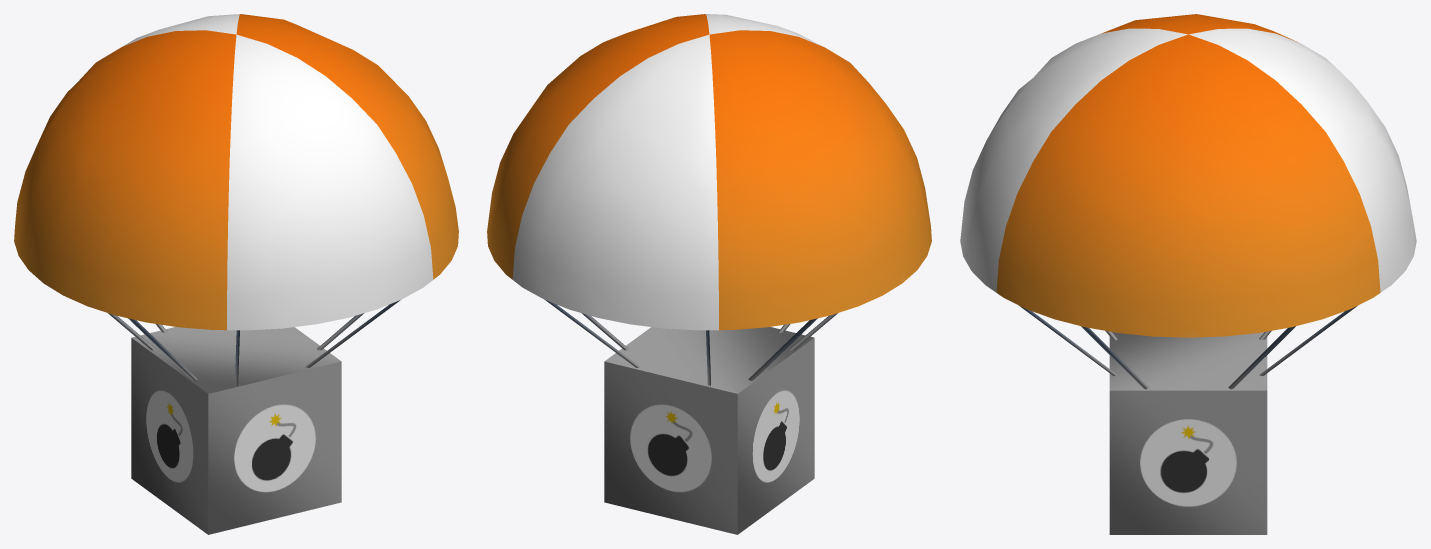
File: Bomb_Etherum.FBX
The picture shows the model from 3 angles, left to right: view 1: azimuth 30°, elevation 25°; view 2: azimuth 150°, elevation 25°; view 3: azimuth 270°, elevation 25°; orthographic projection. The views are drawn at different scales.
Visible parts, largest first — view 1: Sphere008, grey baked001, Line045, Line043; view 2: Sphere008, grey baked001, Line044, Line046; view 3: Sphere008, grey baked001, Line044, Line045.
Part boxes in pixels (x1=…): Sphere008: x1=14, y1=14, x2=458, y2=330; grey baked001: x1=131, y1=327, x2=341, y2=534; Line045: x1=305, y1=300, x2=400, y2=367; Line043: x1=128, y1=318, x2=239, y2=385; Sphere008: x1=487, y1=14, x2=931, y2=330; grey baked001: x1=604, y1=327, x2=814, y2=534; Line044: x1=545, y1=300, x2=640, y2=367; Line046: x1=706, y1=318, x2=817, y2=385; Sphere008: x1=960, y1=14, x2=1416, y2=337; grey baked001: x1=1109, y1=332, x2=1267, y2=534; Line044: x1=1228, y1=306, x2=1356, y2=389; Line045: x1=1020, y1=306, x2=1148, y2=389.
Bounding box in the file's own units: 73.02 × 73.02 × 82.47.
Materials: 4 (3 with a texture image).
